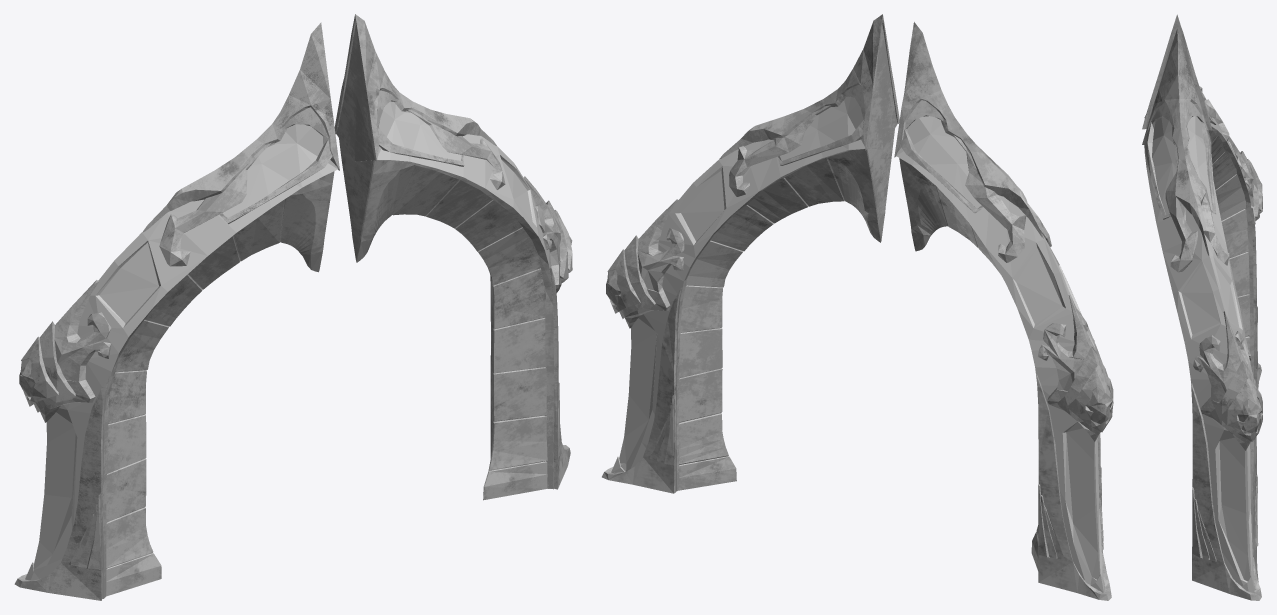
Rendered from Archstone_01_Lod1.fbx.
3 views of the same model, side by side, from view 1: azimuth 30°, elevation 25°; view 2: azimuth 150°, elevation 25°; view 3: azimuth 270°, elevation 25° (orthographic). The views are drawn at different scales.
Visible parts, largest first — view 1: S_Sunforged_Archstone_01_Lod1.mo; view 2: S_Sunforged_Archstone_01_Lod1.mo; view 3: S_Sunforged_Archstone_01_Lod1.mo.
Part boxes in pixels (x1,y1,x2,y2): S_Sunforged_Archstone_01_Lod1.mo: (14,14,572,600); S_Sunforged_Archstone_01_Lod1.mo: (602,14,1113,600); S_Sunforged_Archstone_01_Lod1.mo: (1142,14,1262,600).
Size of the model in its own units: 2259 by 2084 by 494.
